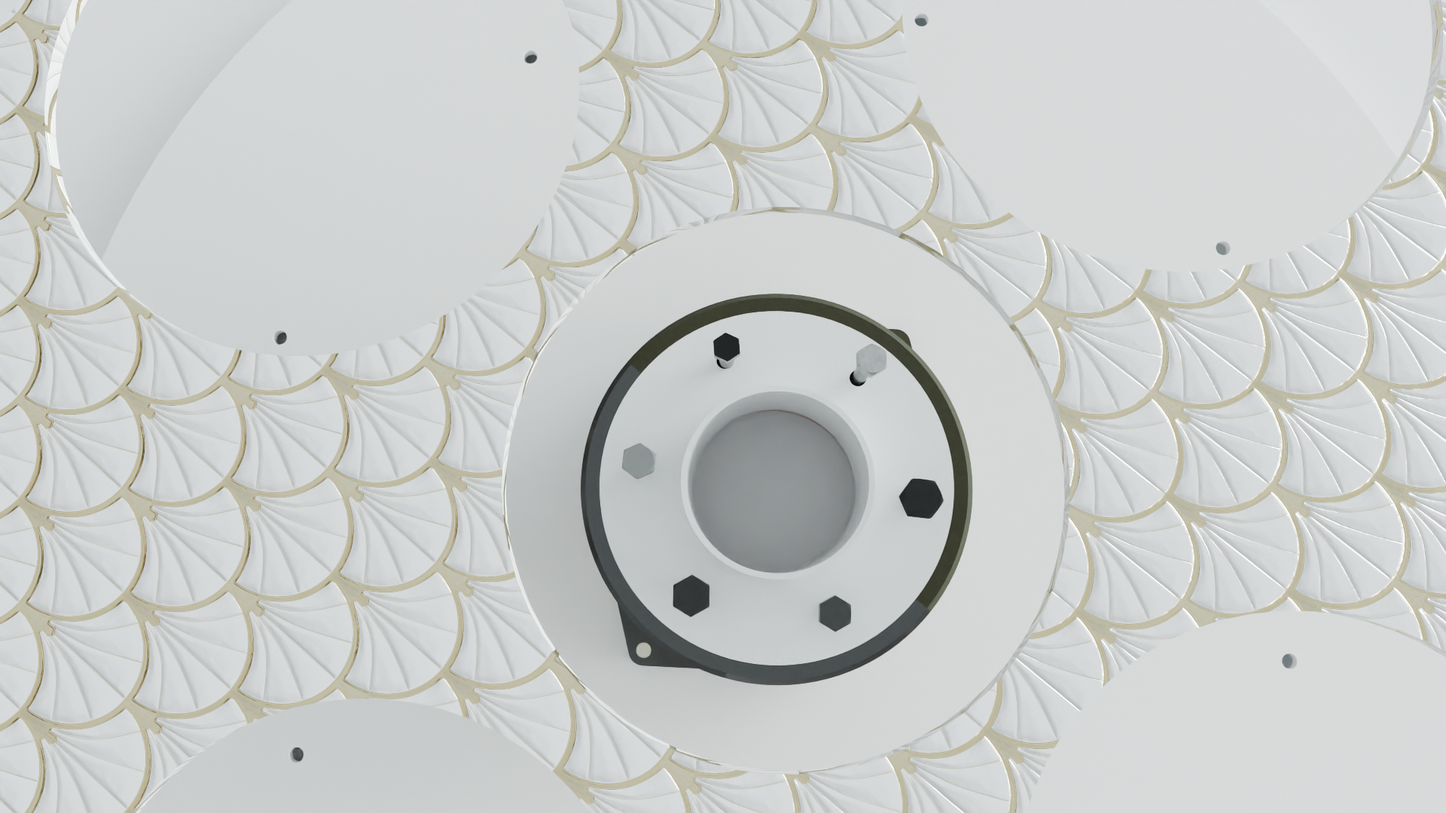bolt: (901, 478, 944, 518), (673, 575, 709, 617), (622, 443, 655, 478), (820, 595, 851, 632), (858, 343, 886, 376), (713, 333, 740, 361)
